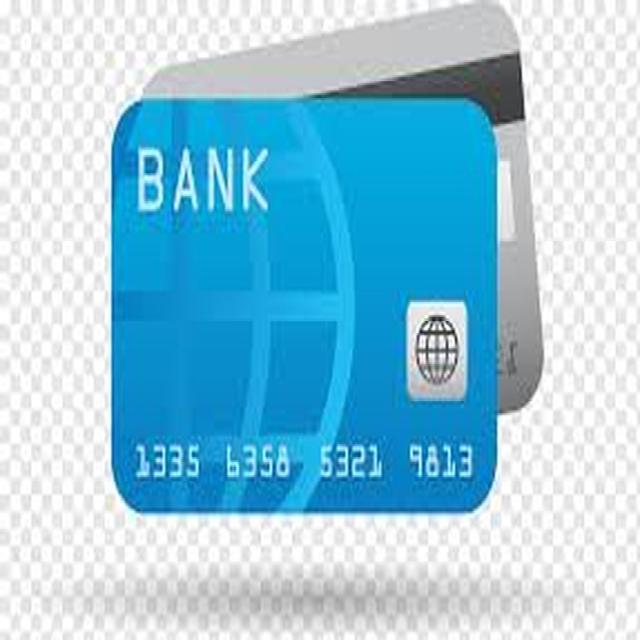card: (99, 93, 498, 567)
